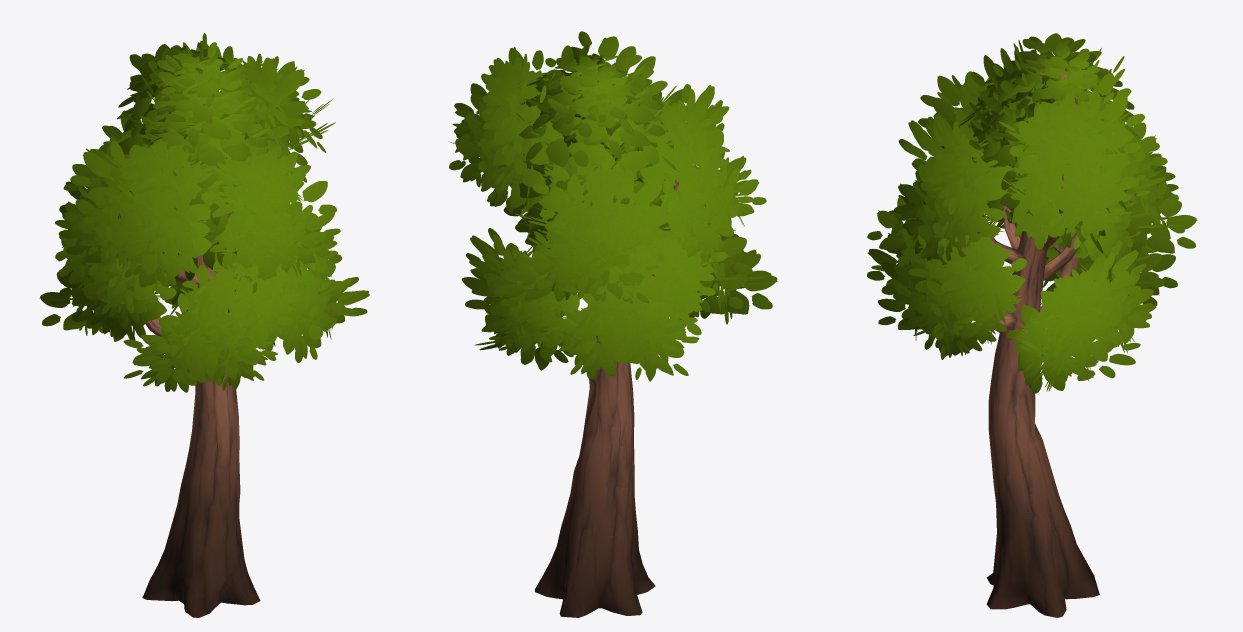
File: broadleaf-round.mid.quaternius.glb
3 renders of one model, left to right at view 1: azimuth 30°, elevation 25°; view 2: azimuth 150°, elevation 25°; view 3: azimuth 270°, elevation 25°, orthographic. The views are drawn at different scales.
Visible parts, largest first — view 1: CommonTree_1; view 2: CommonTree_1; view 3: CommonTree_1.
Part boxes in pixels (x1=…): CommonTree_1: x1=39, y1=33, x2=369, y2=617; CommonTree_1: x1=449, y1=31, x2=777, y2=617; CommonTree_1: x1=867, y1=33, x2=1197, y2=617.
Bounding box in the file's own units: 6.43 × 10.9 × 6.93.
2 materials, 2 textured.
